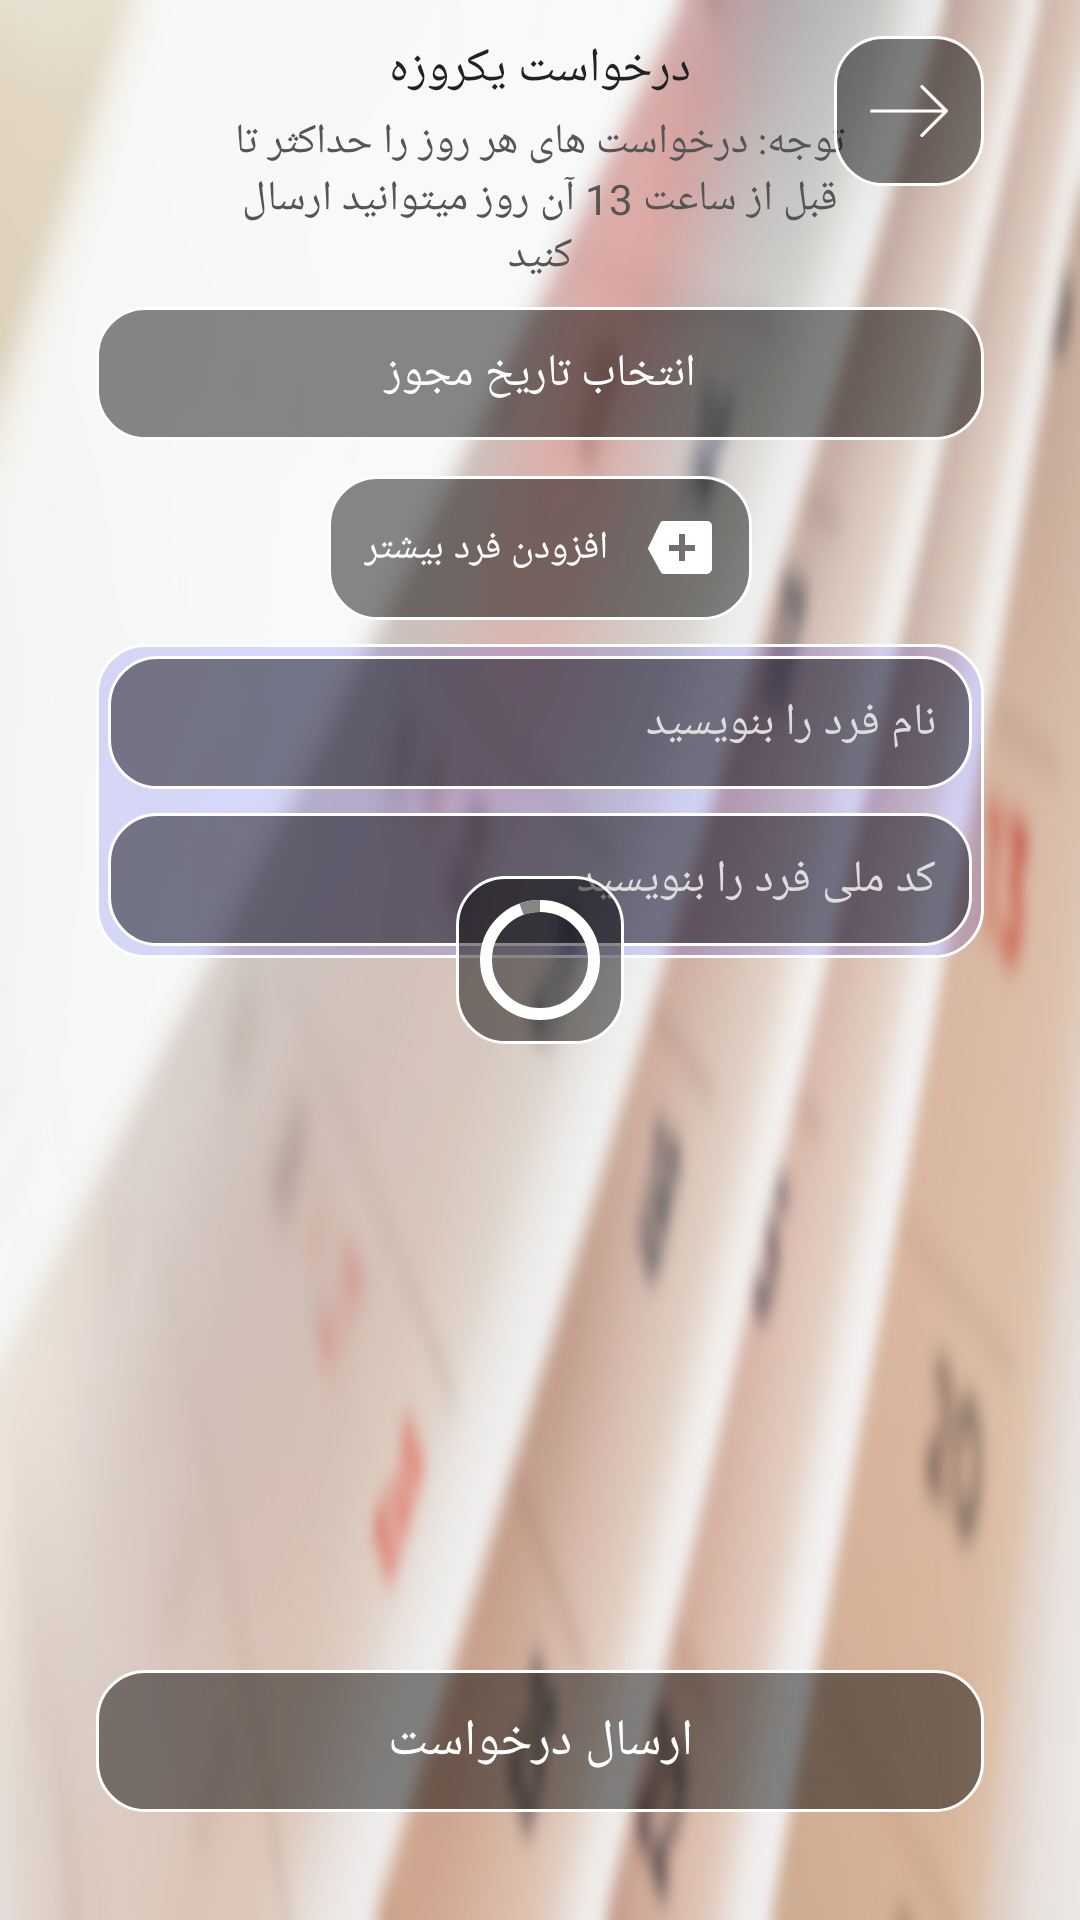

Named icons in this screenshot (1080px×1920px) and their centers, (x=x, y=y):
arrow right: (x=909, y=111)
